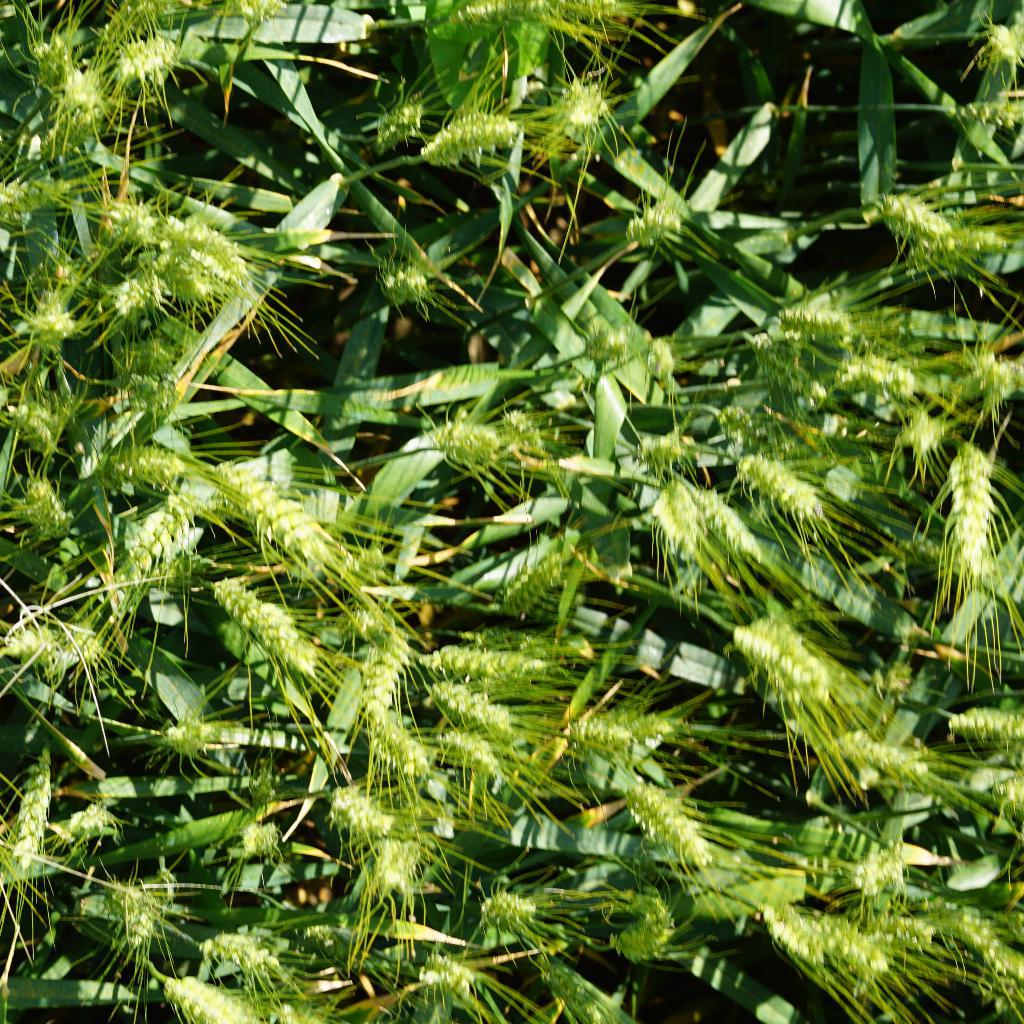0-0: (210, 458, 342, 583), (934, 425, 1006, 593), (212, 576, 324, 679), (168, 212, 271, 313), (732, 449, 848, 531), (928, 891, 1024, 990), (422, 635, 563, 699), (626, 778, 716, 877), (731, 612, 830, 695), (111, 501, 198, 594), (829, 724, 946, 793), (574, 698, 695, 763), (702, 398, 805, 473), (817, 333, 927, 403), (747, 875, 826, 967), (636, 466, 707, 568), (915, 212, 1020, 280), (489, 534, 570, 620), (3, 605, 101, 675), (691, 475, 763, 567), (538, 953, 631, 1024), (11, 736, 60, 866), (352, 629, 413, 733), (415, 111, 520, 171), (742, 320, 826, 395), (160, 968, 272, 1024), (777, 292, 881, 351), (811, 908, 888, 986), (859, 888, 945, 957), (423, 676, 522, 735), (44, 55, 111, 137), (114, 27, 181, 106), (873, 180, 957, 242), (198, 923, 290, 979), (94, 438, 186, 492), (934, 686, 1024, 741), (362, 712, 438, 777), (369, 247, 447, 310), (101, 186, 183, 245), (941, 343, 1021, 403), (329, 781, 406, 843), (444, 720, 514, 788), (845, 840, 920, 900), (609, 920, 695, 972), (370, 825, 428, 901), (949, 82, 1024, 139), (499, 403, 571, 462), (436, 406, 505, 466), (0, 172, 78, 225), (96, 261, 169, 317), (17, 292, 79, 354), (109, 877, 167, 942), (615, 197, 684, 251), (326, 604, 405, 651), (14, 474, 74, 533), (18, 26, 81, 82), (608, 882, 684, 927), (572, 320, 635, 372), (102, 0, 182, 40), (3, 395, 62, 449), (423, 949, 484, 1001), (225, 818, 292, 863), (67, 793, 122, 847), (900, 397, 950, 456), (481, 885, 537, 937), (304, 42, 369, 86), (641, 337, 691, 393), (367, 96, 425, 144), (334, 546, 388, 597), (163, 717, 213, 768), (638, 419, 681, 468)
